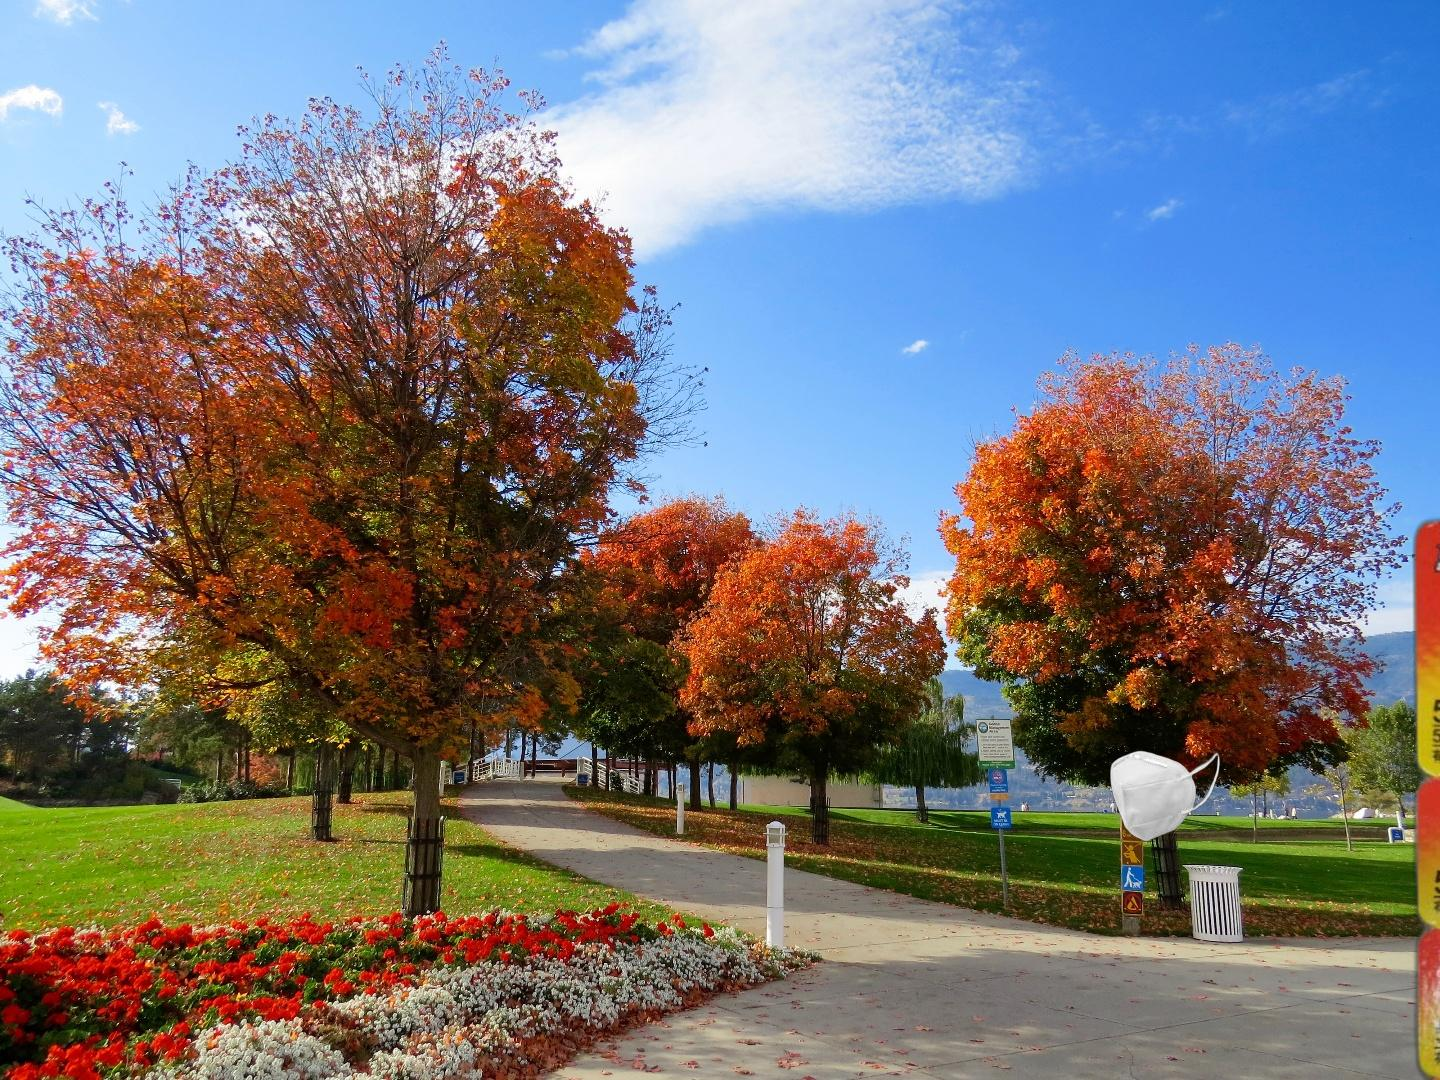battery: (1141, 498, 1440, 1080)
trash: (1107, 748, 1223, 844)
